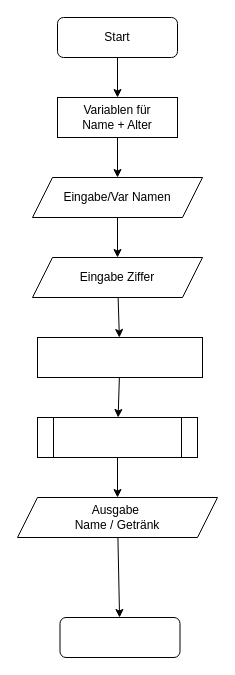
Image size: 235x675. Some labels were removed from this diagram. Each missing label, with the box of its shape:
Auswahl des Getränks: (36, 416, 198, 458)
Konvertierung Ziffer -Zahl / Var: (36, 336, 202, 378)
Stop: (59, 616, 180, 658)
